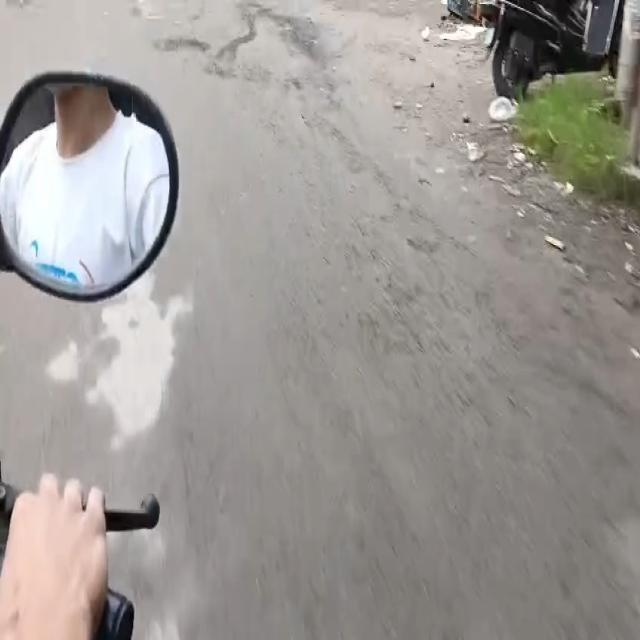road-pothole: (207, 4, 341, 128), (147, 33, 212, 58)
